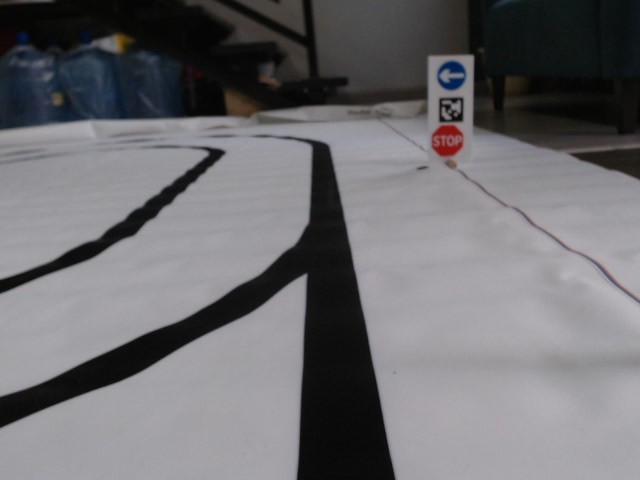Stop: (431, 124, 464, 156)
